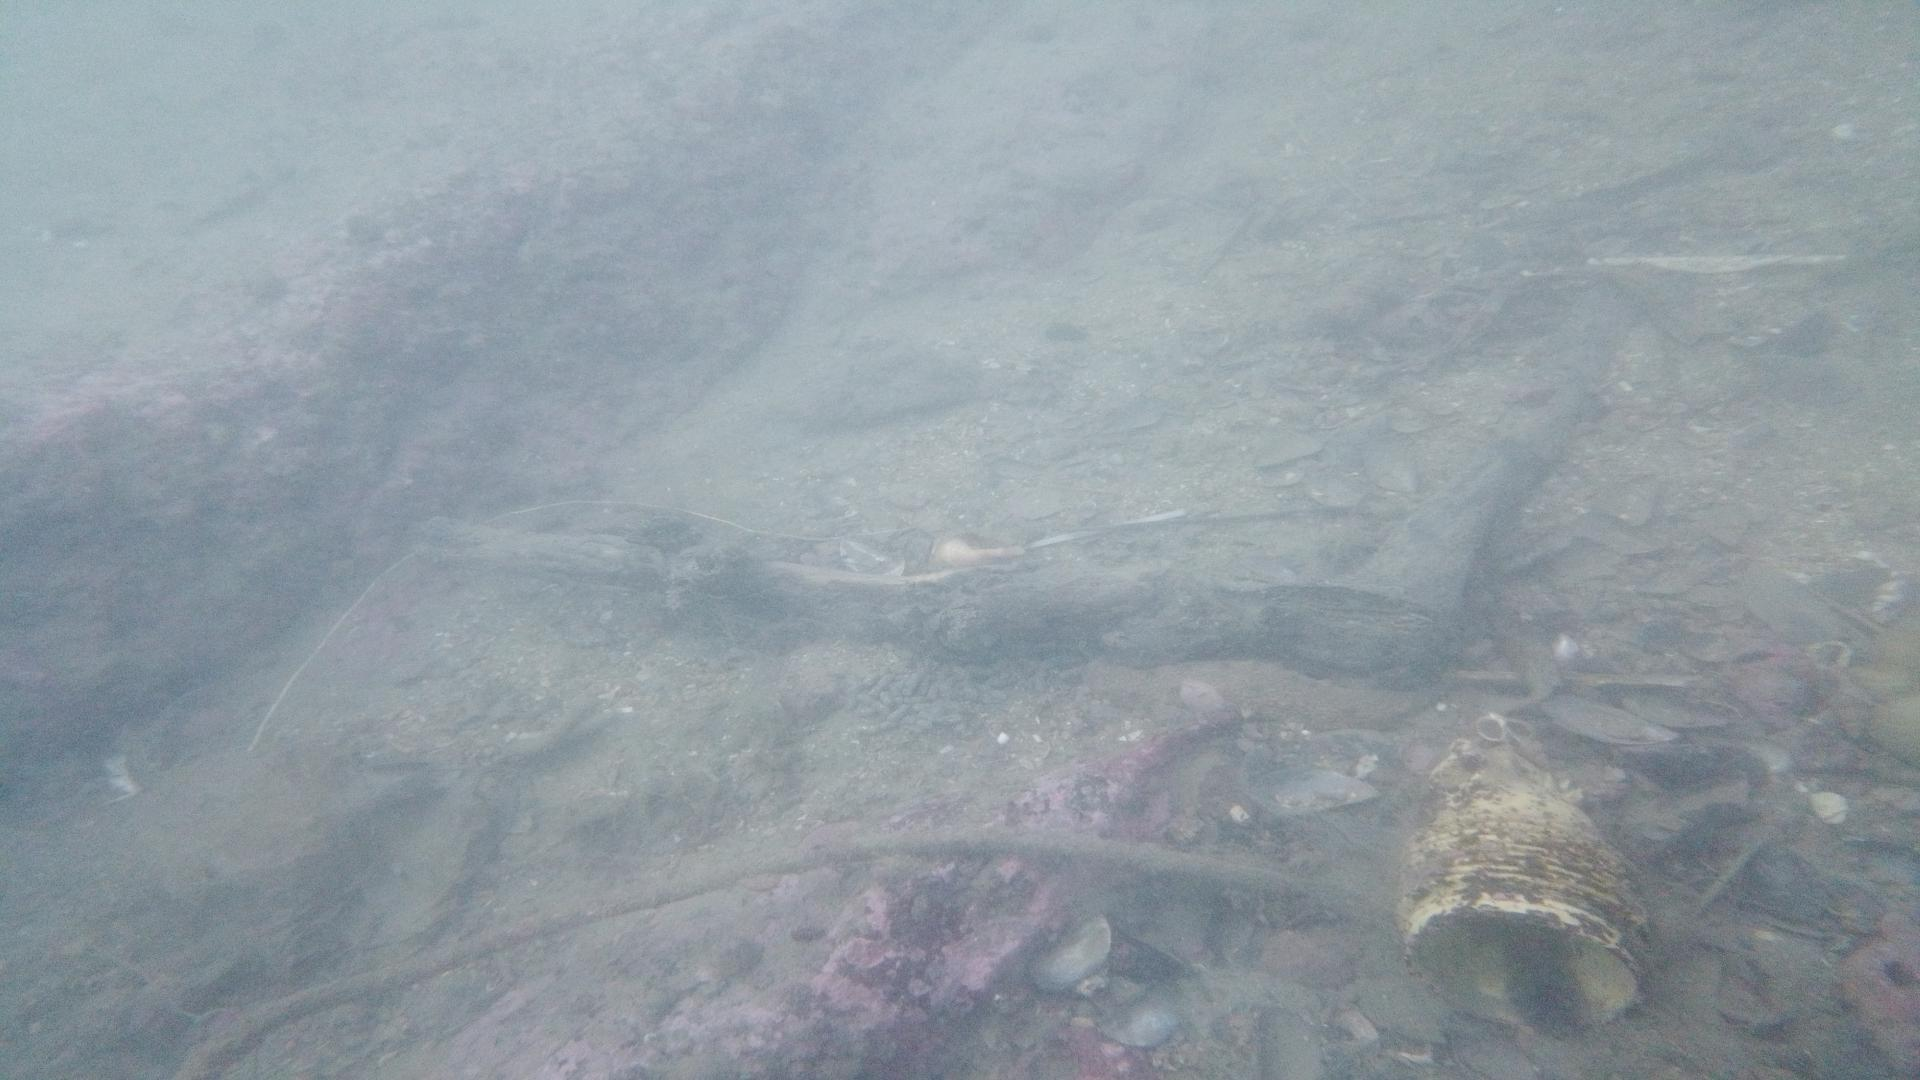rope: (189, 822, 1296, 1073)
wood: (407, 286, 1636, 674)
